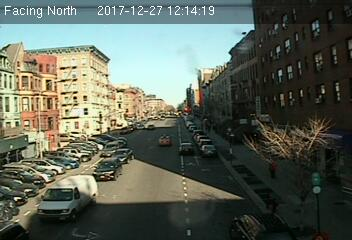car: (229, 211, 293, 240), (92, 160, 122, 182), (110, 148, 135, 164), (102, 142, 122, 156), (178, 142, 195, 155), (158, 133, 172, 146), (200, 145, 217, 155)
truck: (33, 173, 99, 220)
